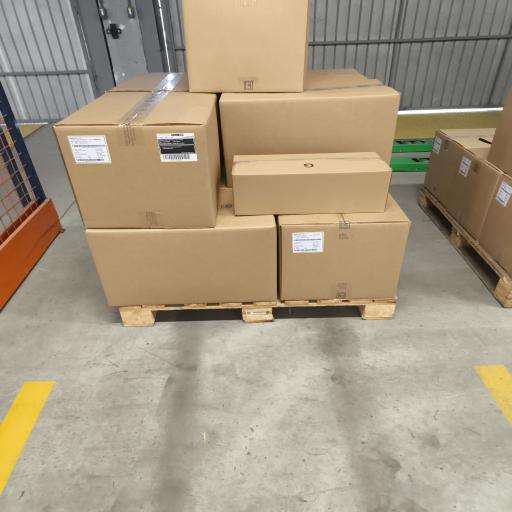pallet: (419, 188, 511, 307), (120, 299, 396, 326)
